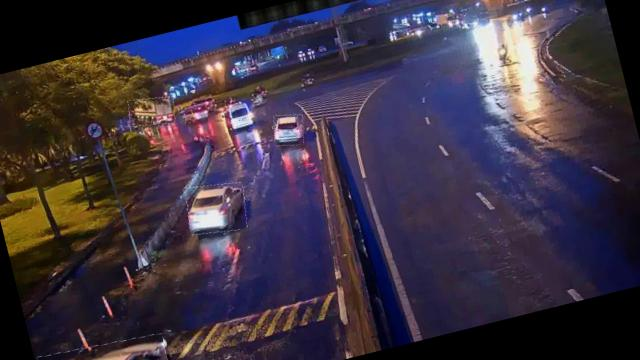Bike: (494, 42, 511, 62)
Car: (180, 176, 251, 240), (35, 328, 177, 360), (270, 110, 308, 150)
Truck: (125, 92, 178, 132)
